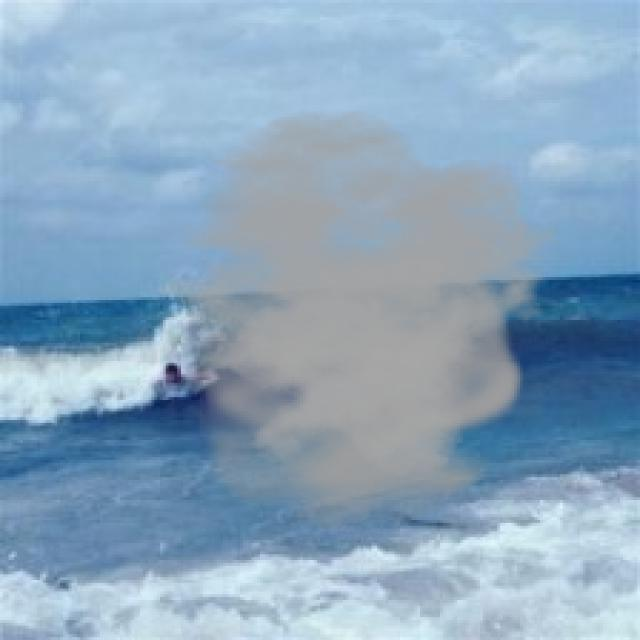Smoke: (135, 109, 560, 528)
